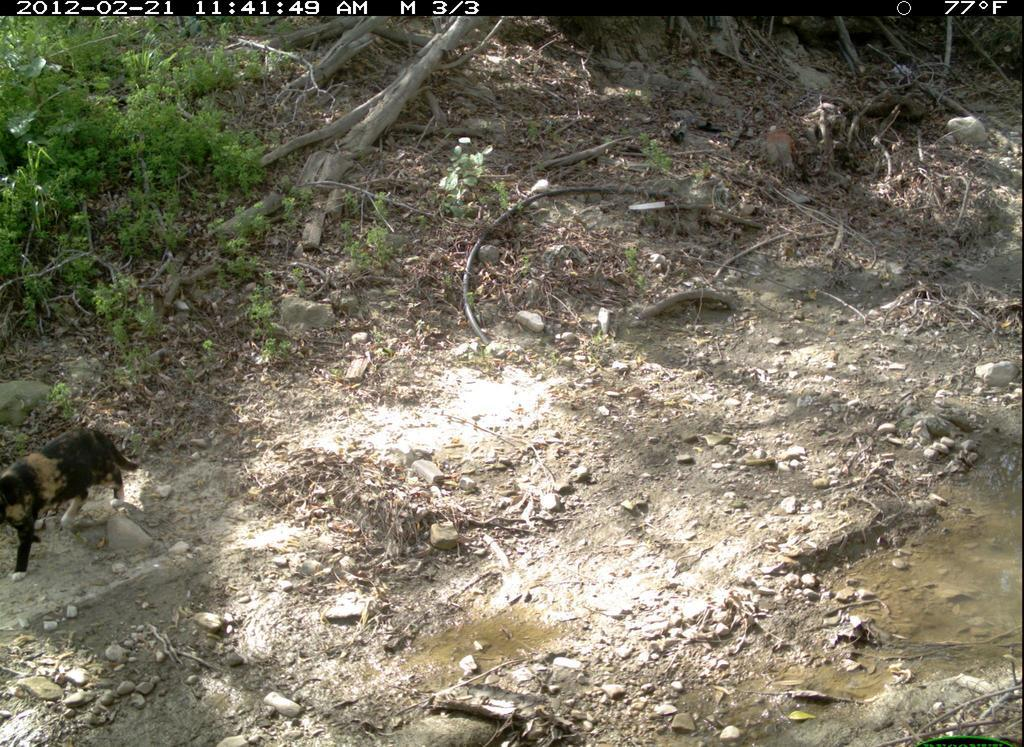cat: (4, 425, 145, 583)
